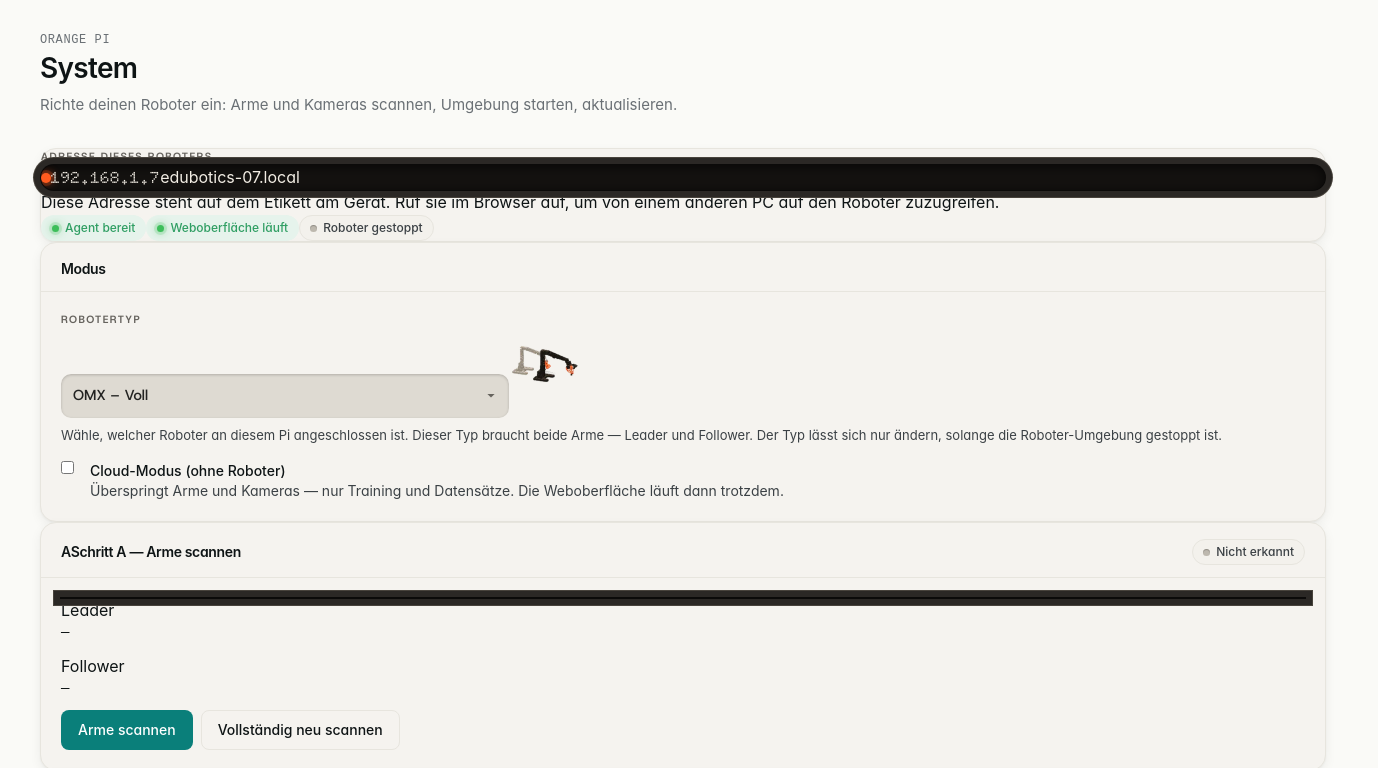
Test: SystemPage — Robotertyp selector › is frozen in Cloud-Modus (no robot → the type is irrelevant)
Expected: the dropdown labelled "Robotertyp" is enabled, [61,374,509,418]
Click the checkbox.
click(68, 468)  # box [61,462,74,474]
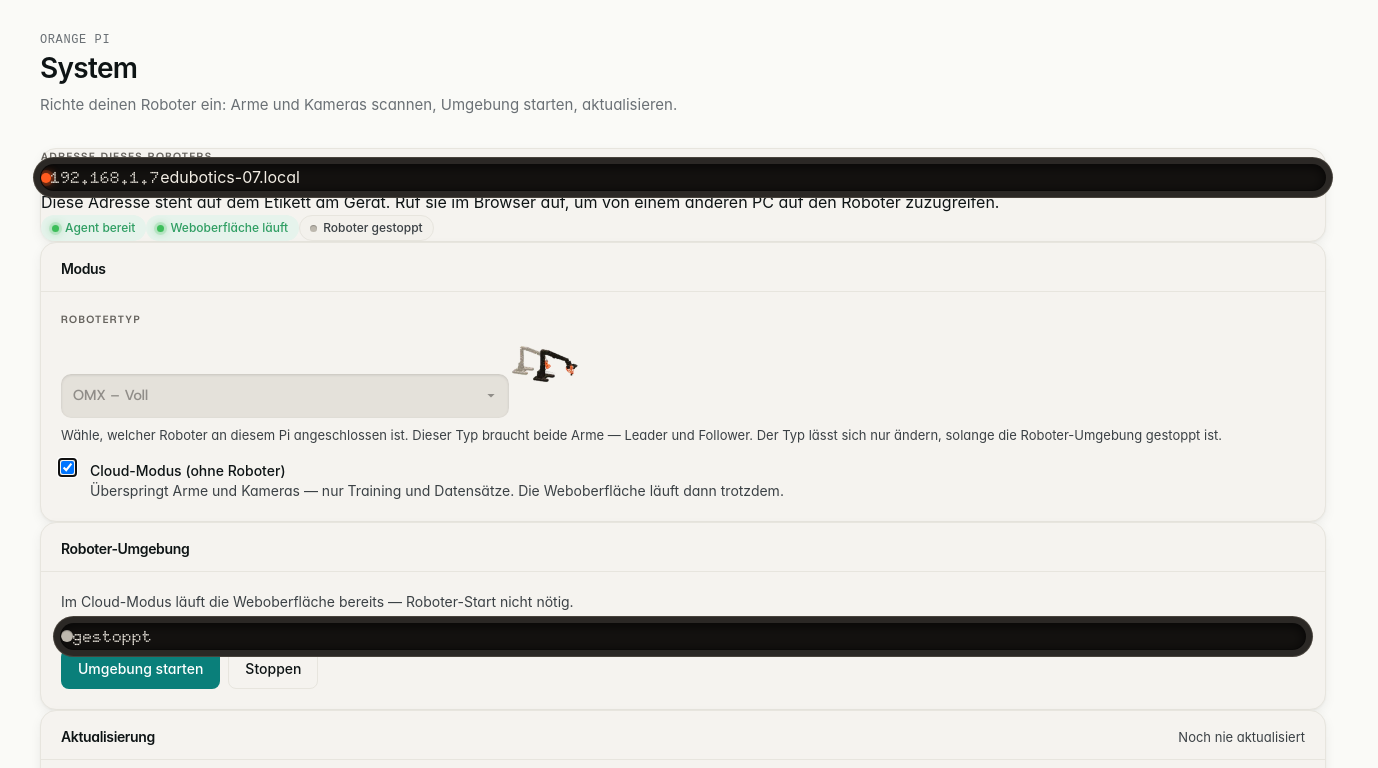
Expected: the dropdown labelled "Robotertyp" is disabled, [61,374,509,418]
